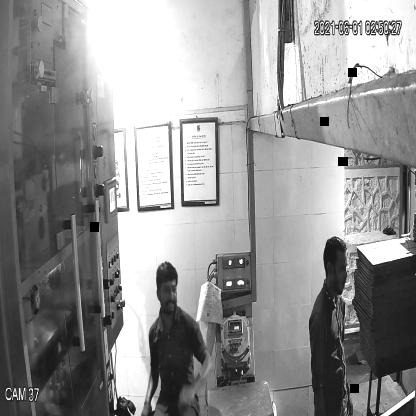no_goggles: (320, 252, 350, 280), (151, 282, 184, 304)
